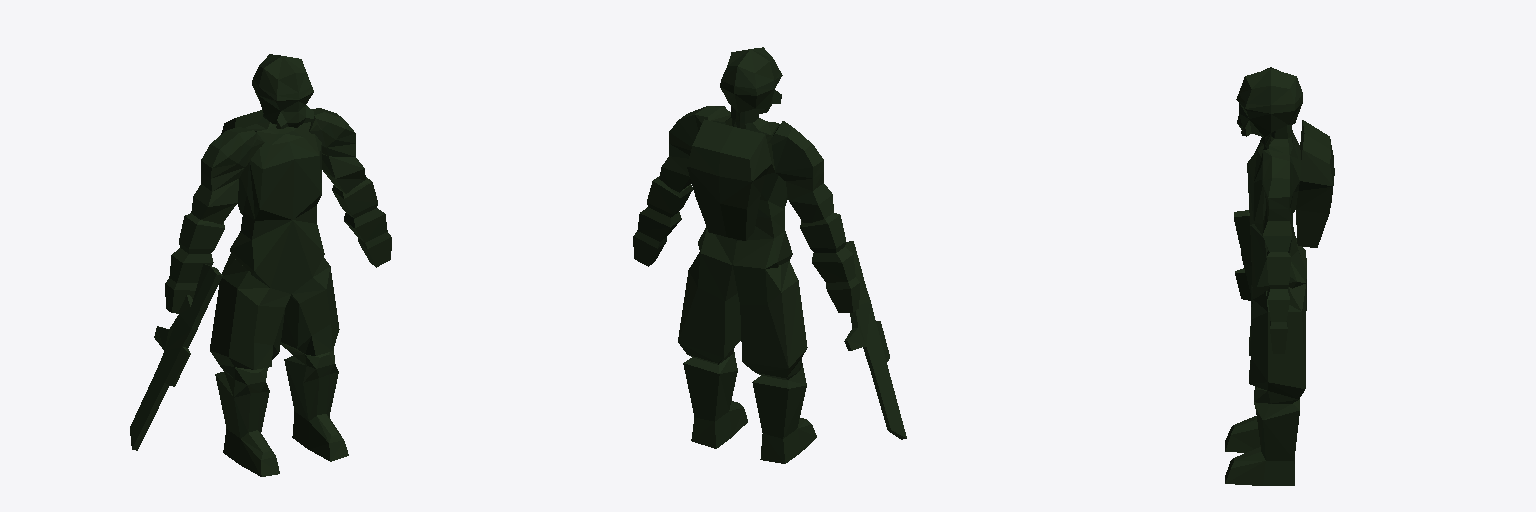
Rendered from trooper.obj.
3 views of the same model, side by side, from view 1: azimuth 30°, elevation 25°; view 2: azimuth 150°, elevation 25°; view 3: azimuth 270°, elevation 25° (orthographic).
Size of the model in its own units: 9.43 by 13.57 by 3.4.